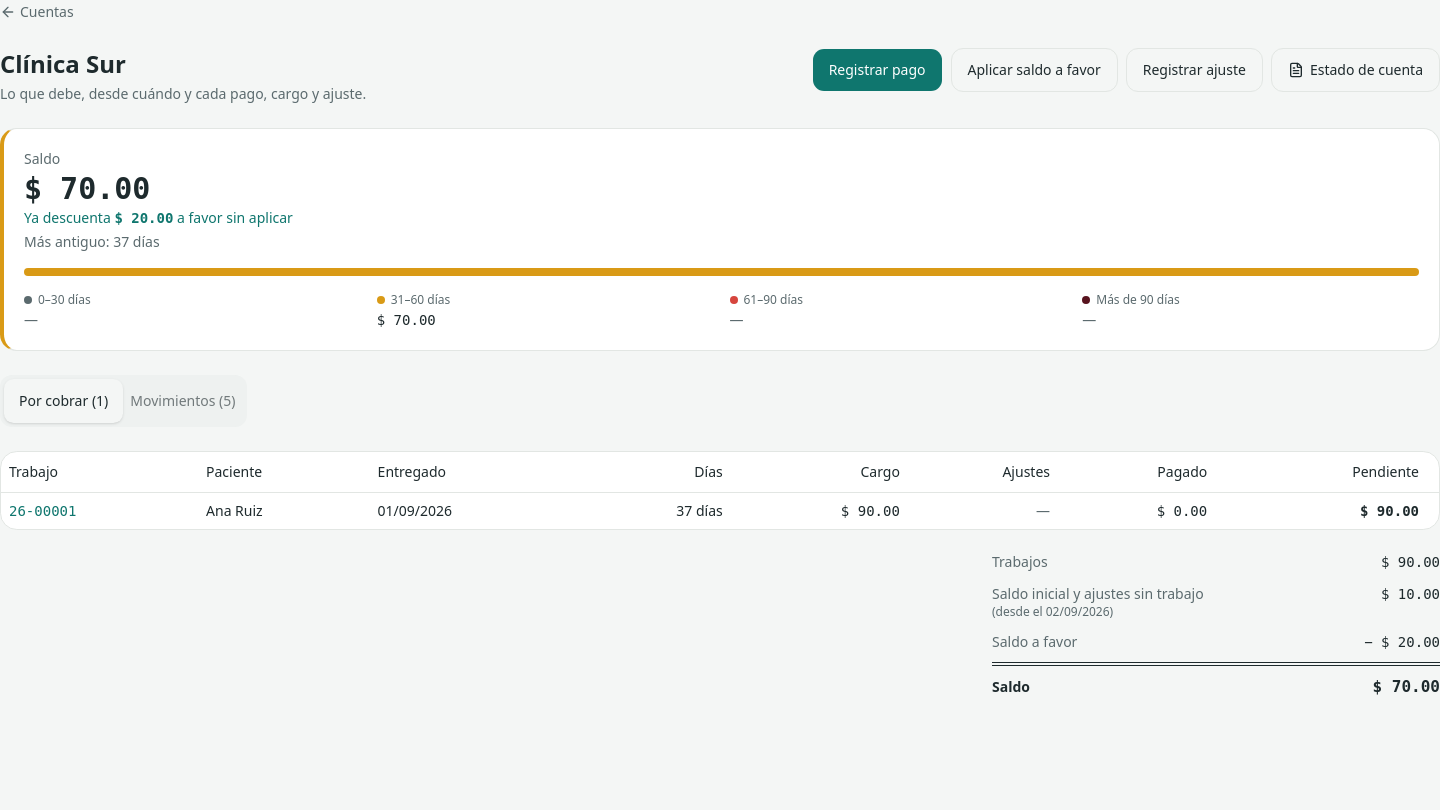
Test case: ClinicAccountContent › el administrador además registra ajustes y anula los pagos vigentes
The image size is (1440, 810).
Expected: the button "Registrar ajuste" is shown, [1126,48,1263,92]
Click the tab "Movimientos (5)".
click(183, 401)  # box [123,379,243,423]
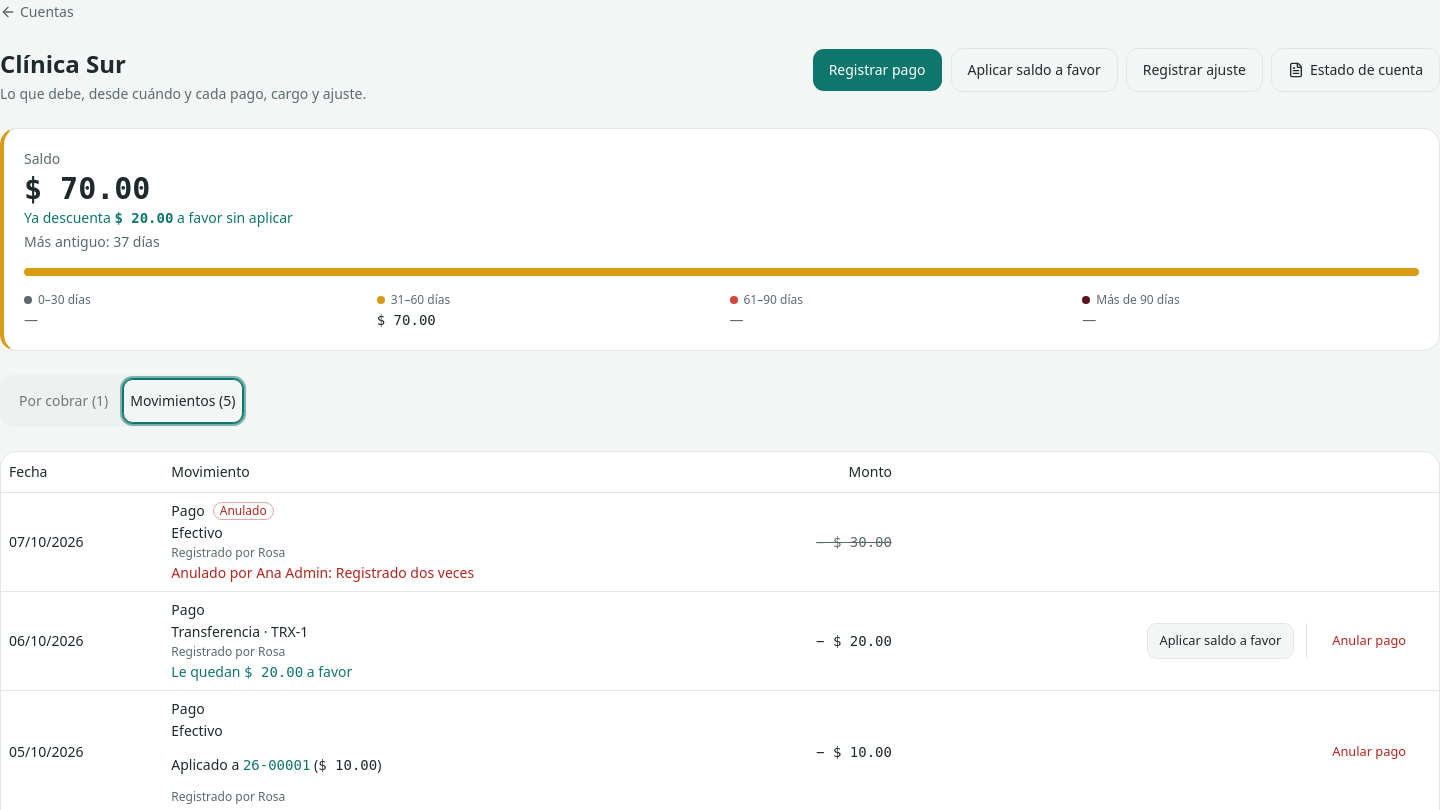
Expected: the number of buttons "Anular pago" is 2
Click the button with aria-label "Anular pago de $ 20.00 del 06/10/2026".
click(1369, 640)  # box [1319,622,1419,658]
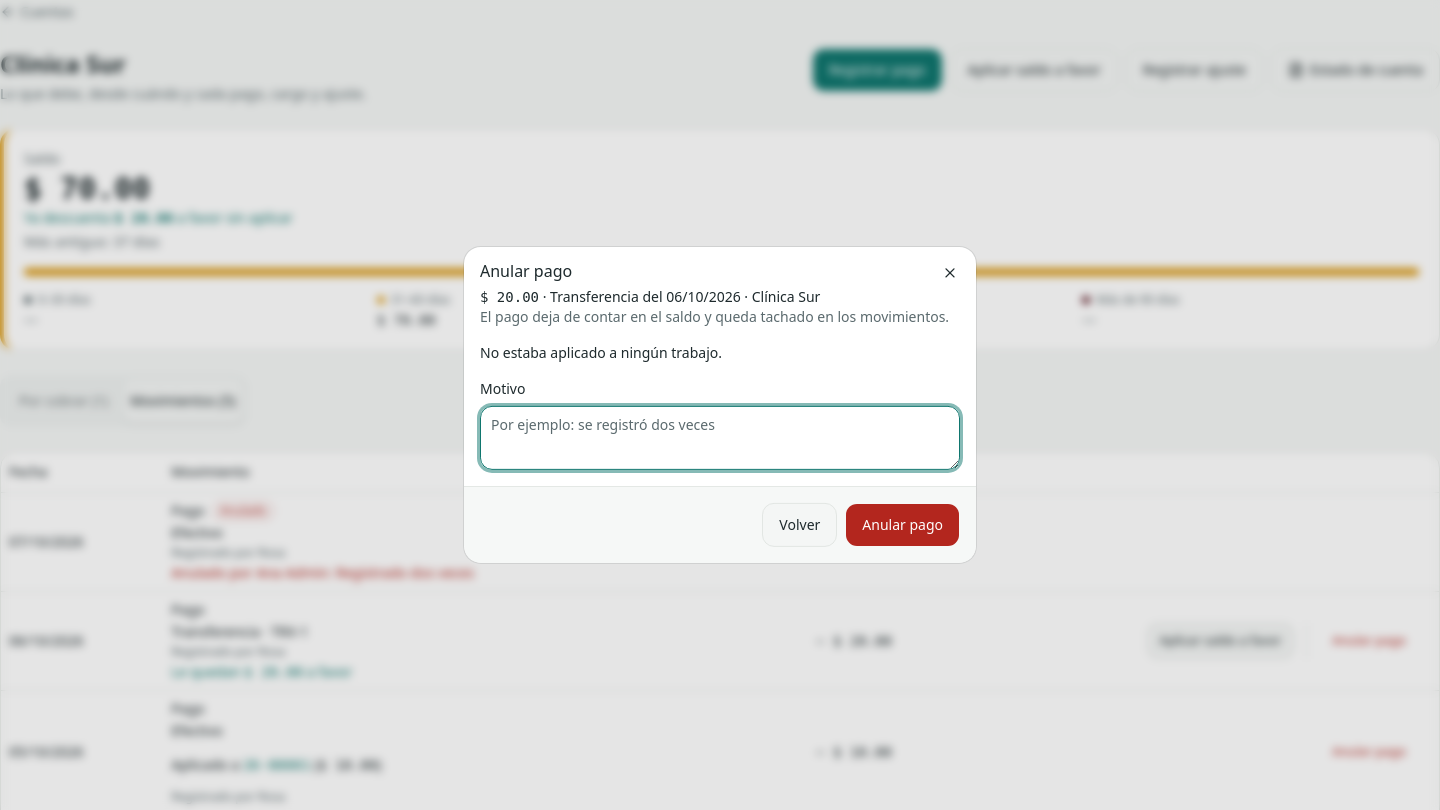
Expected: the dialog "Anular pago" shows "No estaba aplicado a ningún trabajo.", [480,343,722,362]
